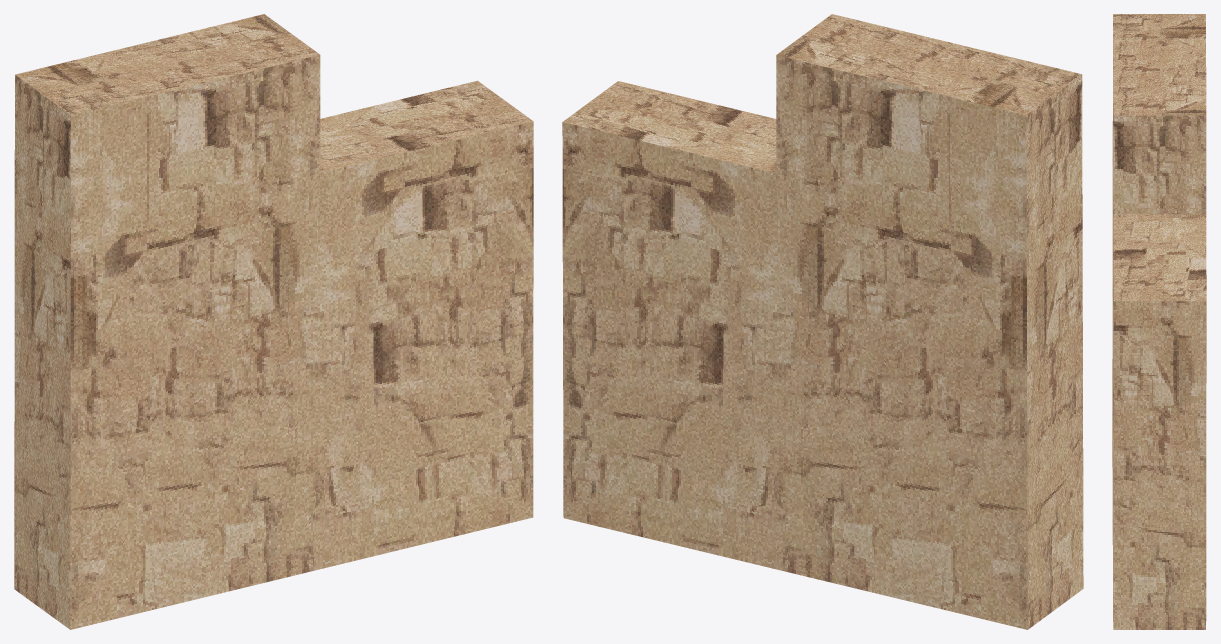
File: stage-ruin-p2-478.glb
3 renders of one model, left to right at view 1: azimuth 30°, elevation 25°; view 2: azimuth 150°, elevation 25°; view 3: azimuth 270°, elevation 25°, orthographic. The views are drawn at different scales.
Size of the model in its own units: 25.47 by 27.01 by 5.38.
1 material, 1 textured.
